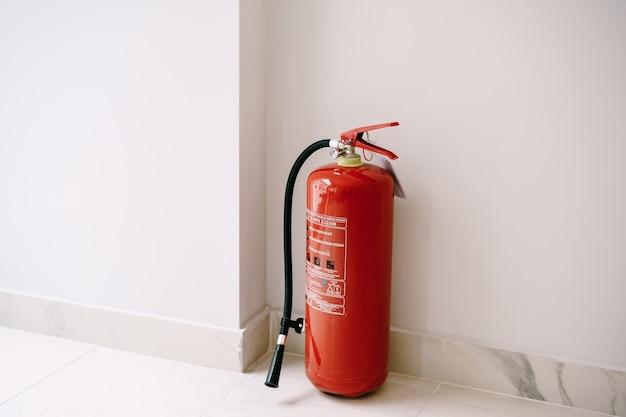floor-kept: (245, 99, 432, 405)
